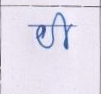i_matra: (55, 12, 73, 49)
